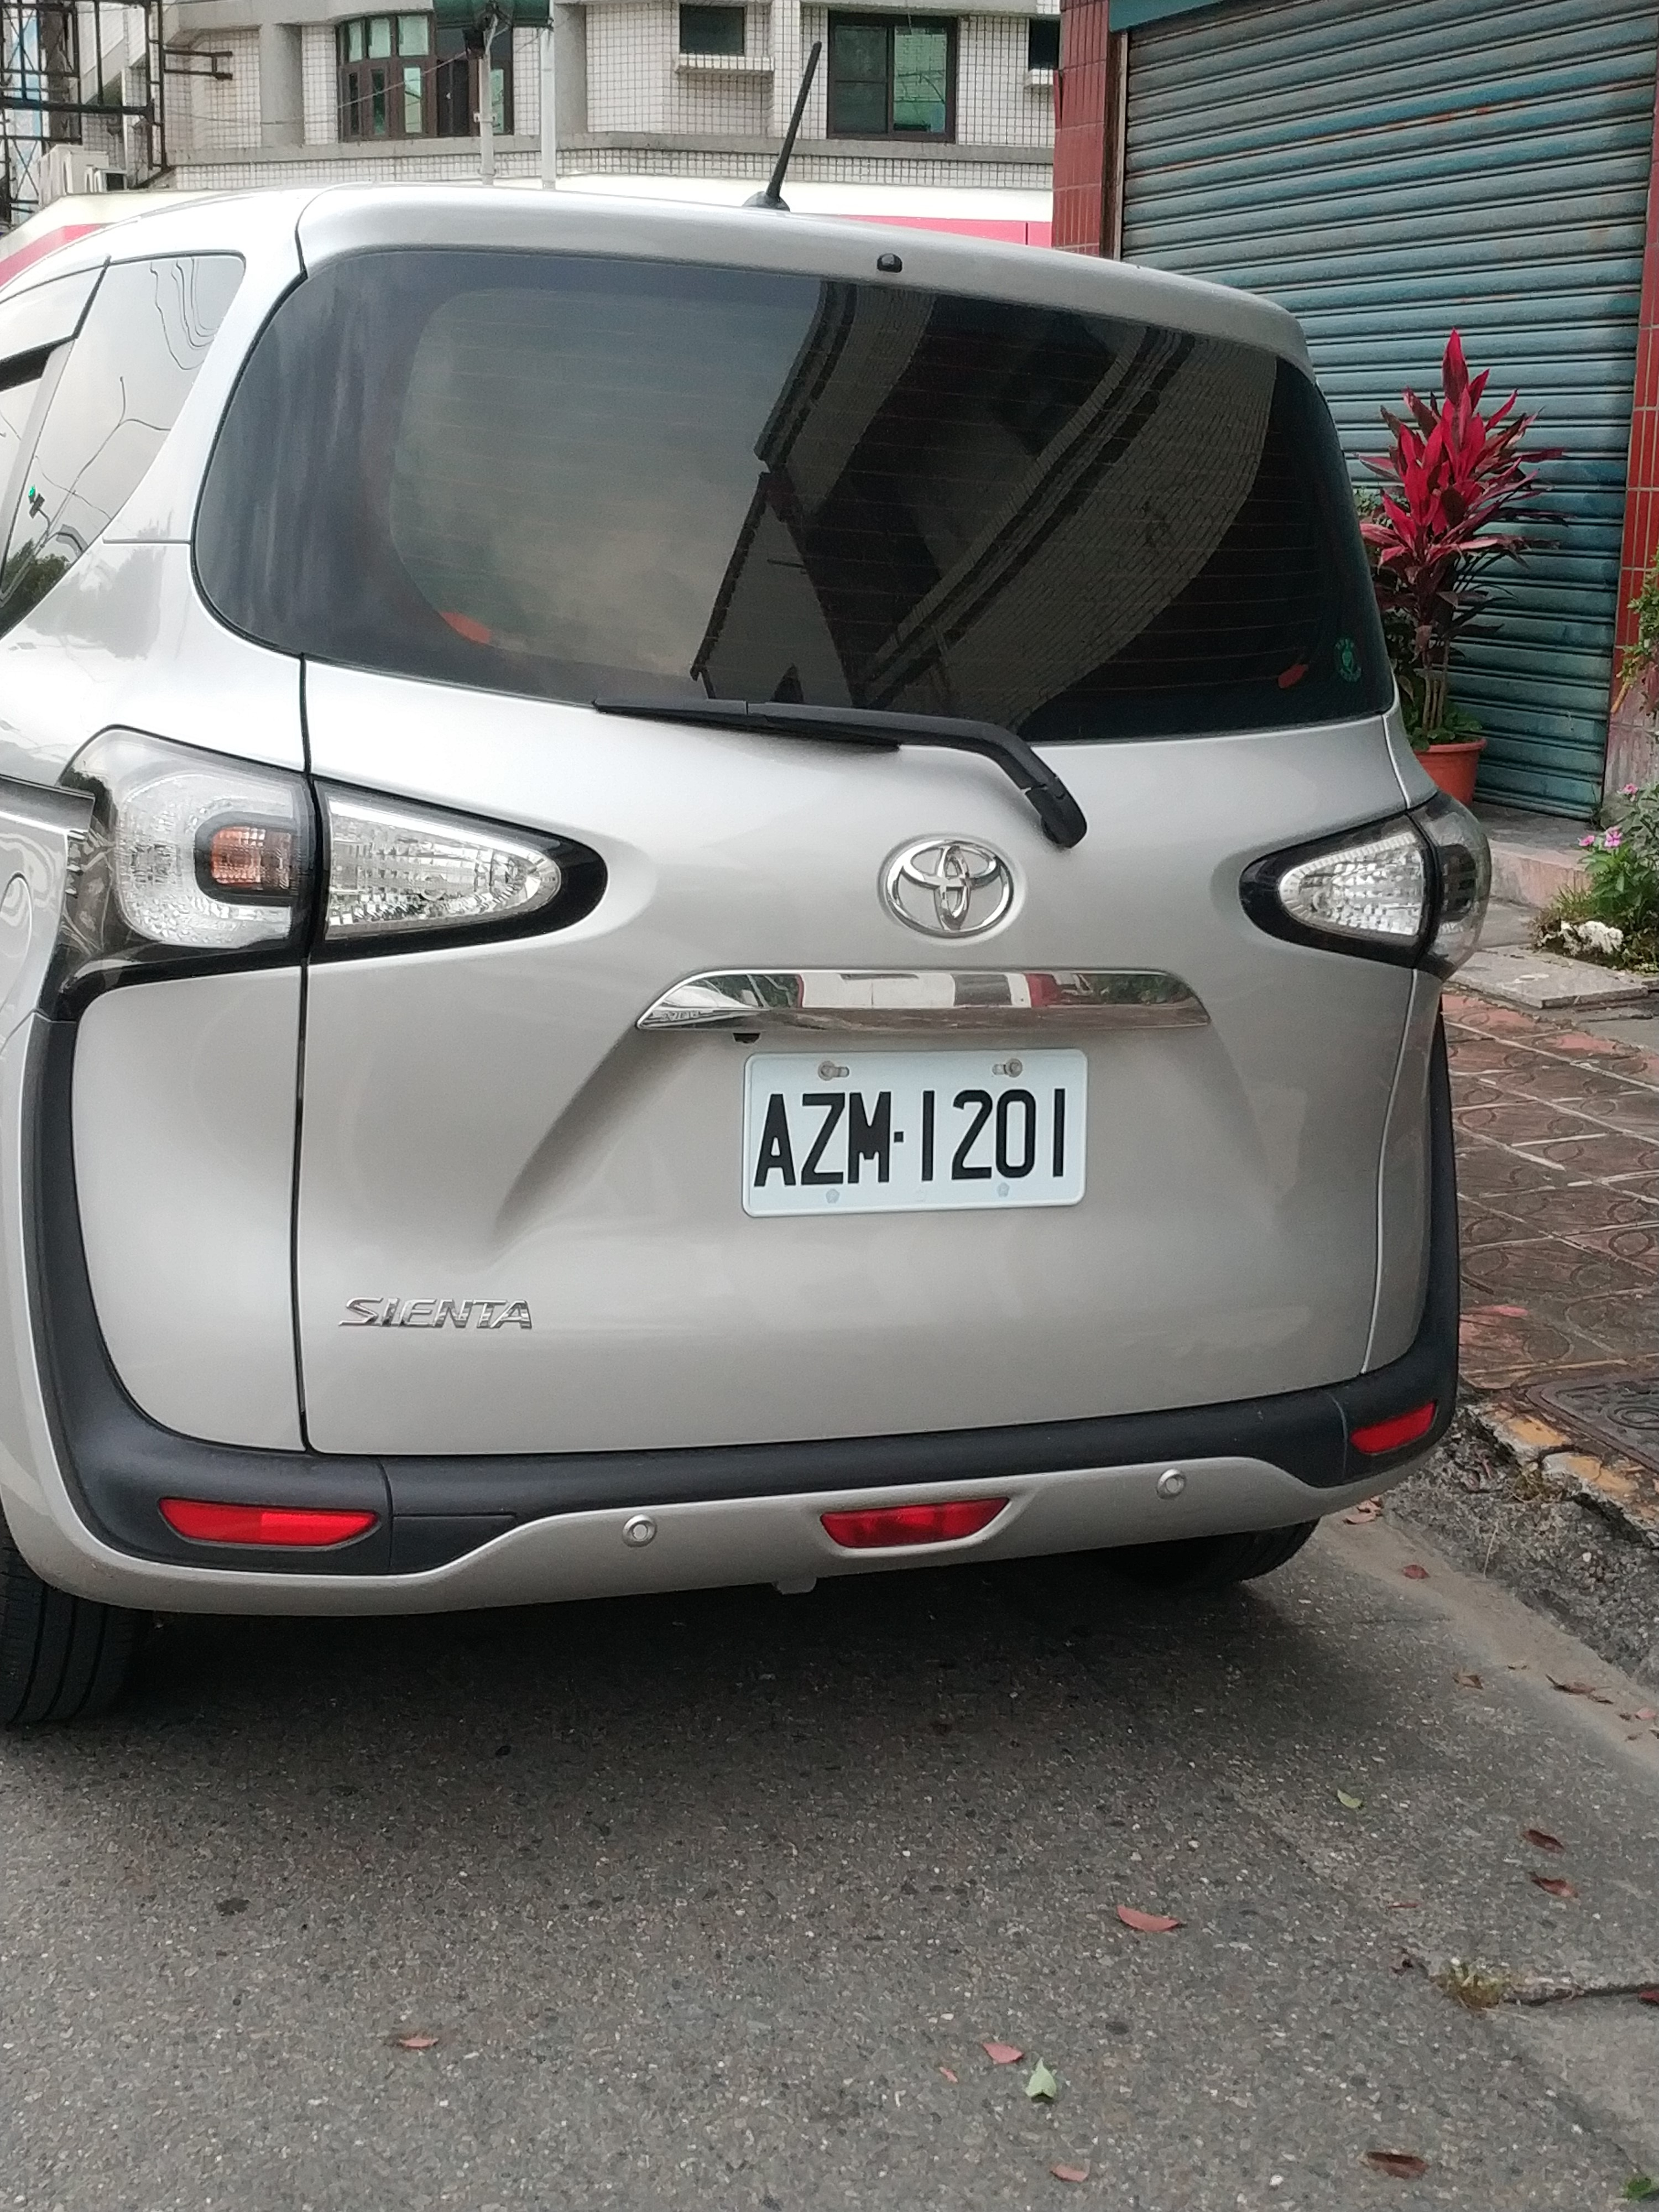car: (12, 242, 1467, 1714)
car_card: (741, 1040, 1087, 1200)
